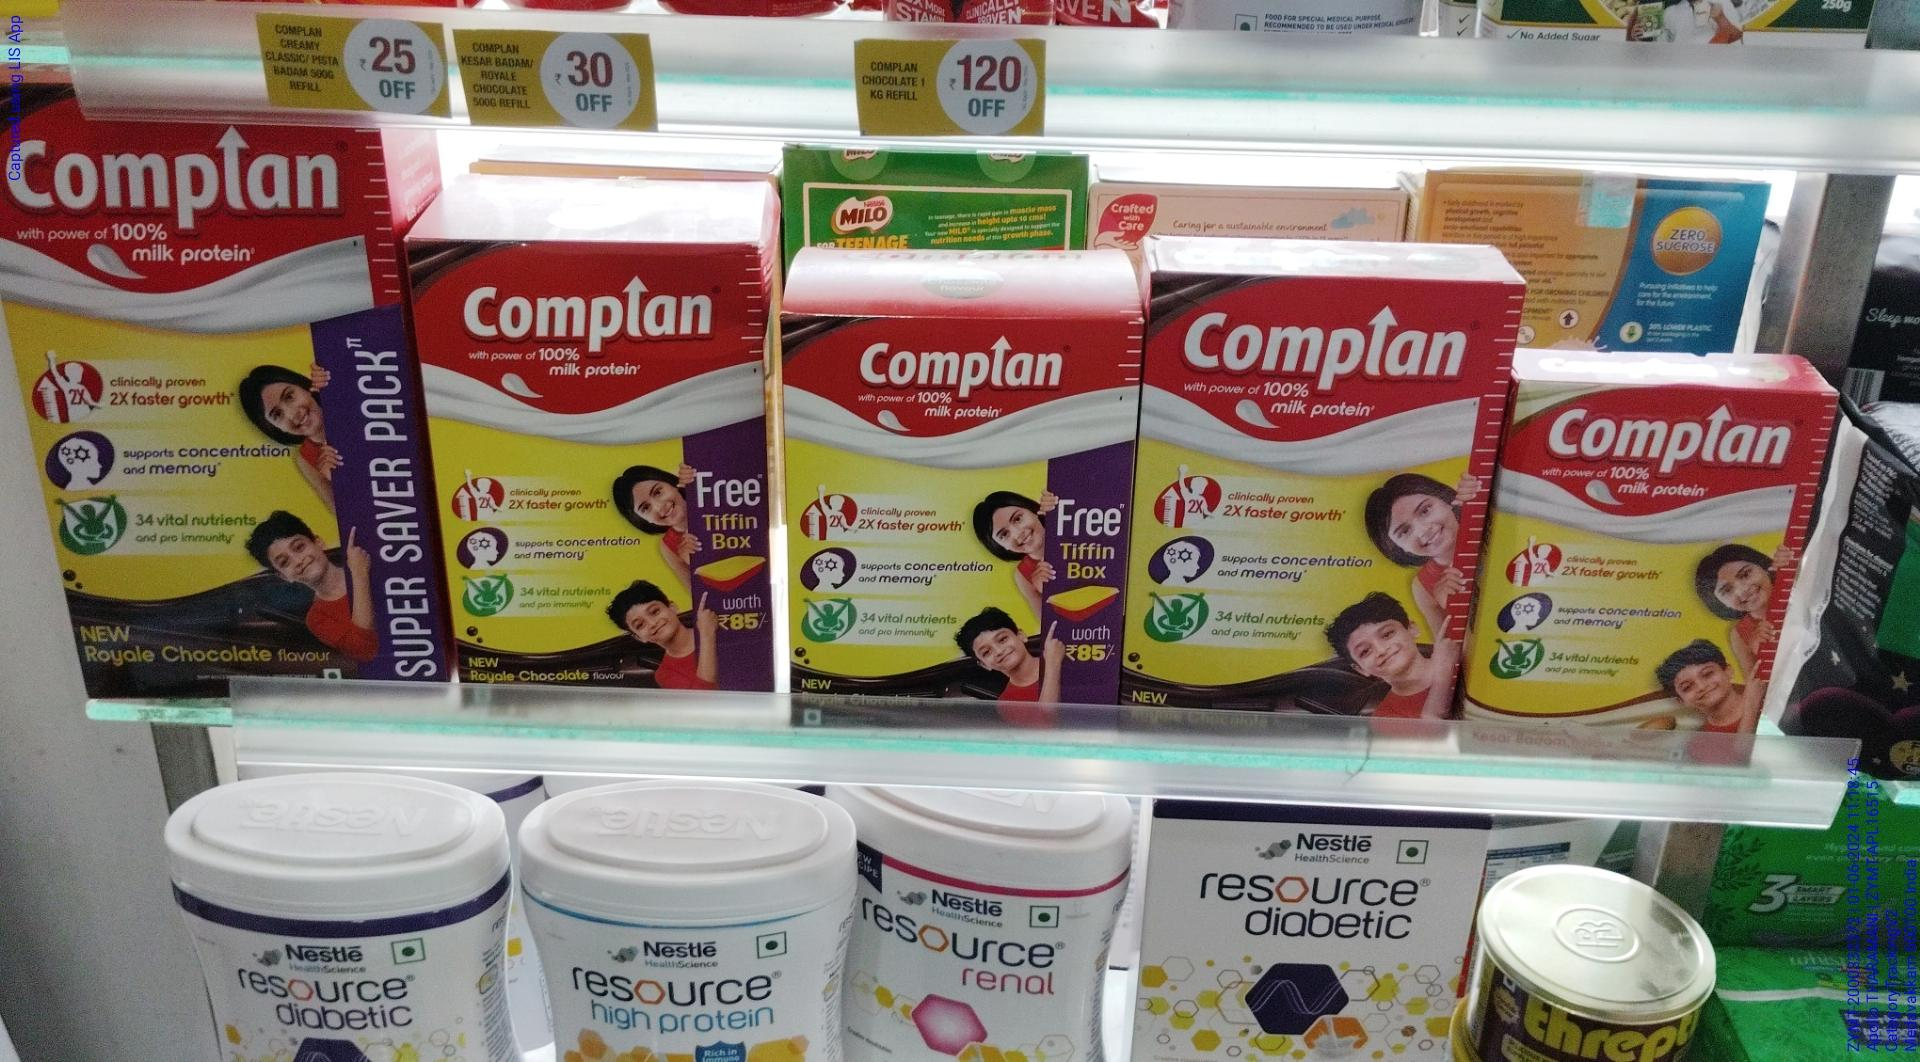COMPLAN_CHOCOLATE_1_KG_PACK: (4, 76, 381, 677)
COMPLAN_CHOCOLATE_500_GMS_PACK: (409, 234, 768, 700), (1146, 269, 1484, 738), (783, 306, 1130, 725)
COMPLAN_KESAR_BADAM_200_GMS_PACK: (1500, 382, 1810, 760)
